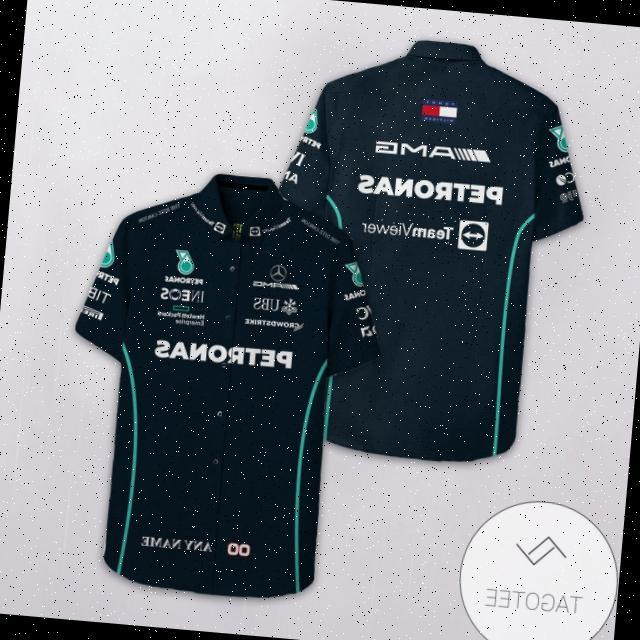TeamViewer: (359, 208, 489, 251)
